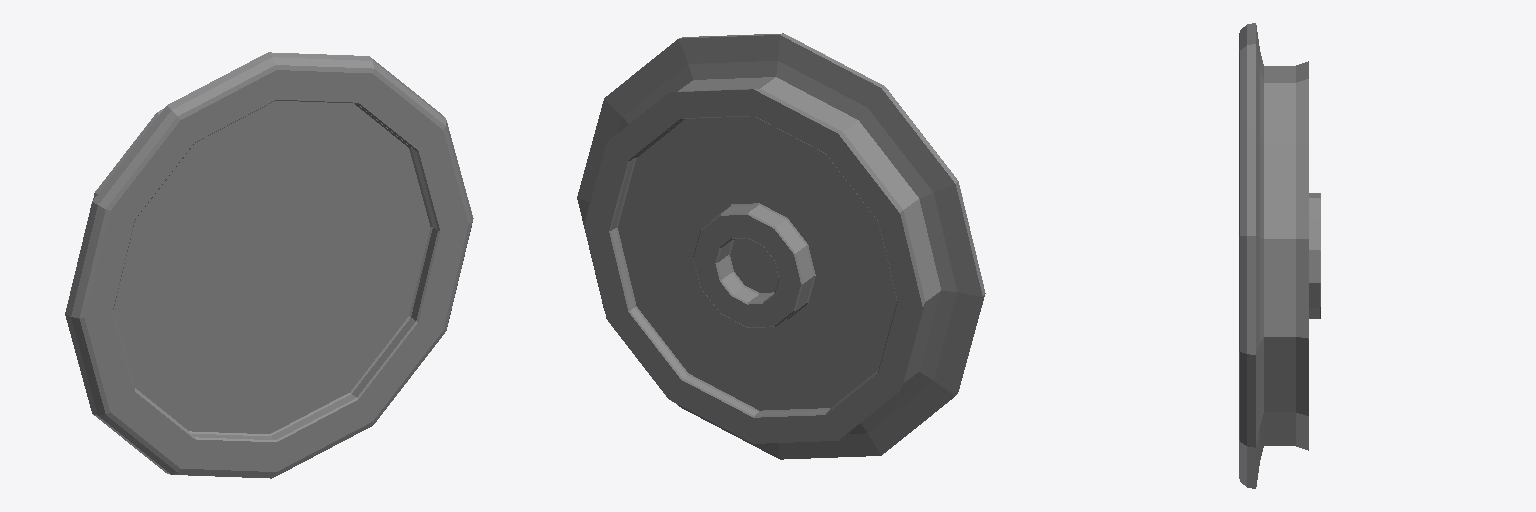
The model's file is left_back_small_wheel.obj.
The picture shows the model from 3 angles: view 1: azimuth 30°, elevation 25°; view 2: azimuth 150°, elevation 25°; view 3: azimuth 270°, elevation 25°; orthographic projection.
Visible parts, largest first — view 1: left_back_small_wheel; view 2: left_back_small_wheel; view 3: left_back_small_wheel.
Part boxes in pixels (left/top/right/bottom): left_back_small_wheel: left=65, top=52, right=473, bottom=478; left_back_small_wheel: left=577, top=33, right=985, bottom=459; left_back_small_wheel: left=1239, top=23, right=1320, bottom=488.
Size of the model in its own units: 8.17 by 8.17 by 1.44.